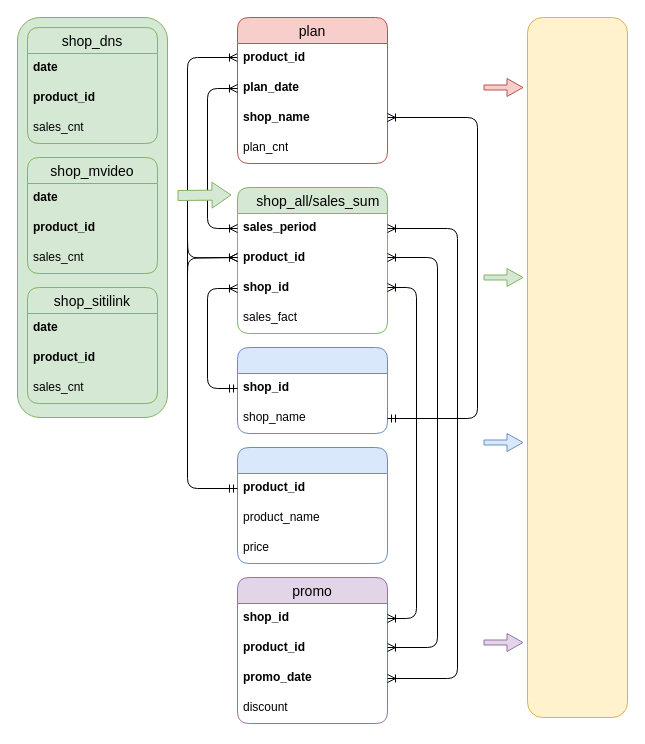
Some shapes in this 645 by 744 pixel diagram are drawn without their labels. The shapes that lost their labels are listed below. From the top down, each one's box as (x1, y1, x2, y2) in pixels, then its label:
(526, 16, 628, 718): Data Mart
(236, 346, 388, 434): shops
(236, 446, 388, 564): products
